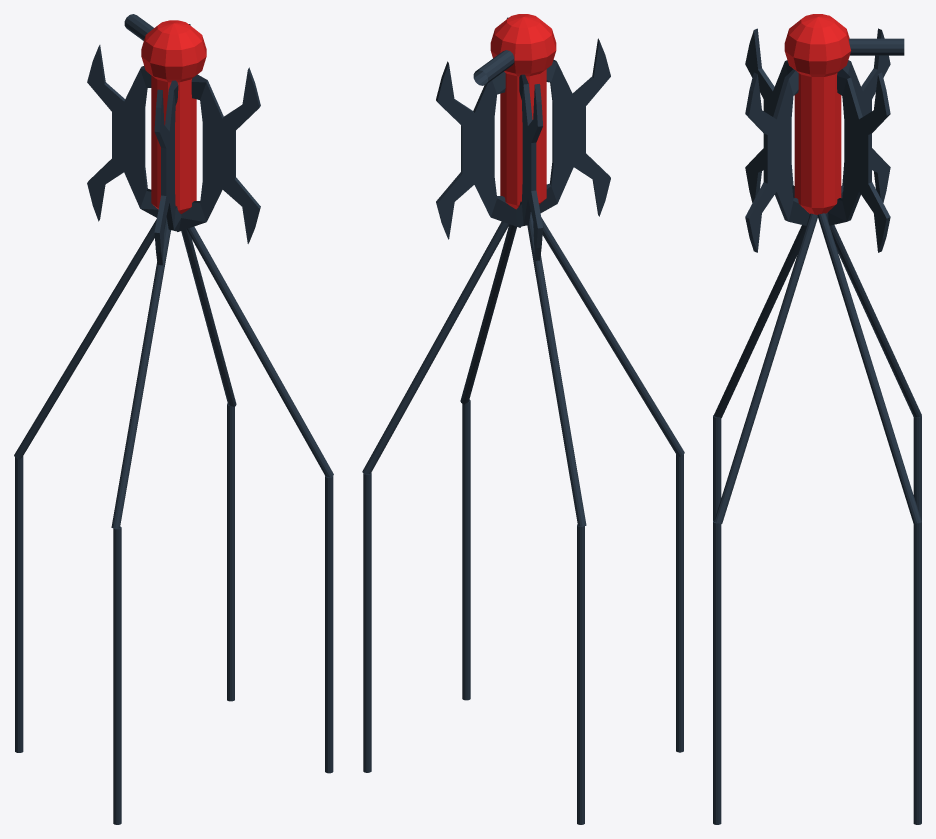
File: turret_enemy.gltf
3 views of the same model, side by side, from view 1: azimuth 30°, elevation 25°; view 2: azimuth 150°, elevation 25°; view 3: azimuth 270°, elevation 25° (orthographic). The views are drawn at different scales.
Parts seen in each view (by area): view 1: cylinder (×9), left_frame (×2), right_frame, body; view 2: cylinder (×9), left_frame (×2), right_frame, body, barrel; view 3: cylinder (×9), right_frame (×2), left_frame (×2), body, barrel.
Boxes of the visible parts, x1,y1,x2,y2 form: cylinder (×9): [14, 75, 333, 824]; left_frame (×2): [87, 45, 181, 265]; right_frame: [177, 67, 260, 243]; body: [141, 20, 206, 82]; cylinder (×9): [362, 69, 684, 824]; left_frame (×2): [516, 38, 610, 260]; right_frame: [436, 61, 520, 239]; body: [490, 14, 556, 76]; barrel: [473, 50, 514, 85]; cylinder (×9): [713, 73, 921, 824]; right_frame (×2): [745, 69, 890, 252]; left_frame (×2): [745, 28, 890, 220]; body: [784, 14, 850, 76]; barrel: [849, 38, 904, 55].
Bounding box in the file's own units: 7.84 × 24.97 × 6.28.
Materials: 2 (2 with a texture image).
